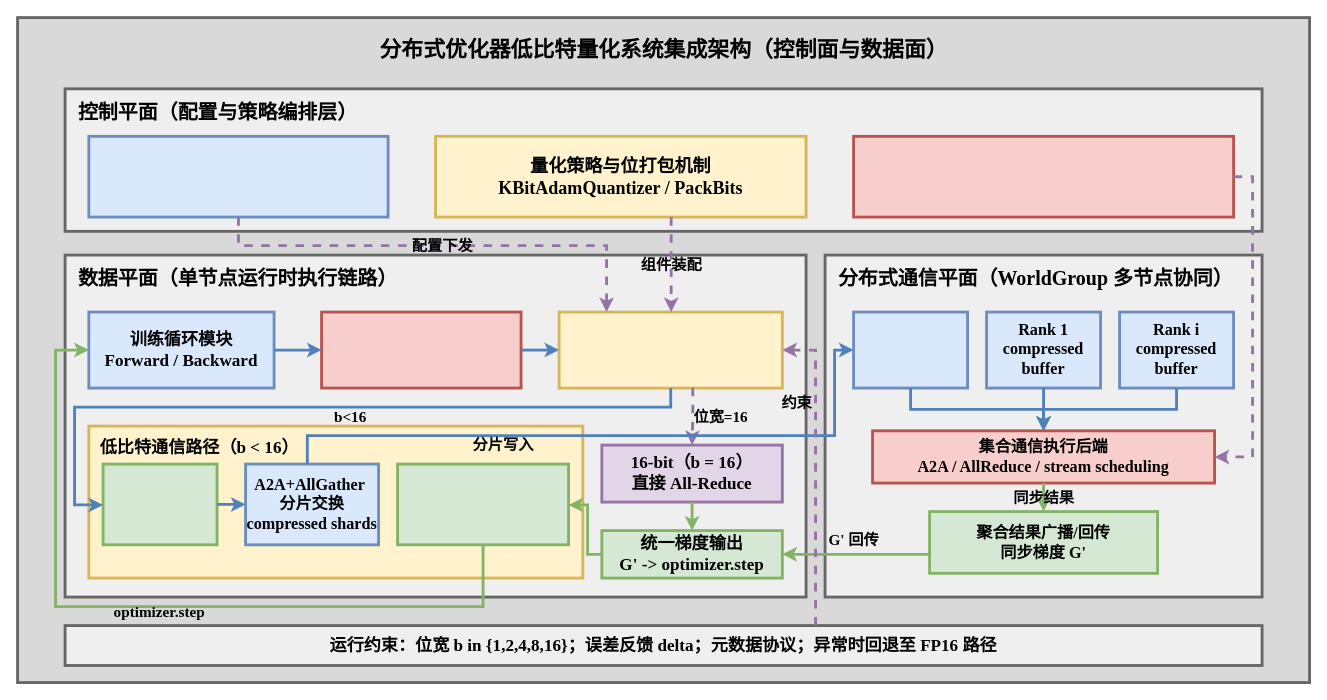
This 1327x700 diagram has some shape labels left out. Here are the shapes that lost their labels. From the top down, the centre of each, then its label:
At [238,176]: "训练策略与运行配置 b / comp_flag / group topology".
At [1043,176]: "集合通信后端抽象层 ProcessGroup / NCCL / A2A API".
At [421,349]: "DDP Hook 适配层 bucketize / flatten".
At [670,349]: "量化规约执行模块（QuantizedAdamReduce）".
At [910,349]: "Rank 0 compressed buffer".
At [159,504]: "量化与打包".
At [483,504]: "反量化聚合模块 dequantize_and_reduce".
